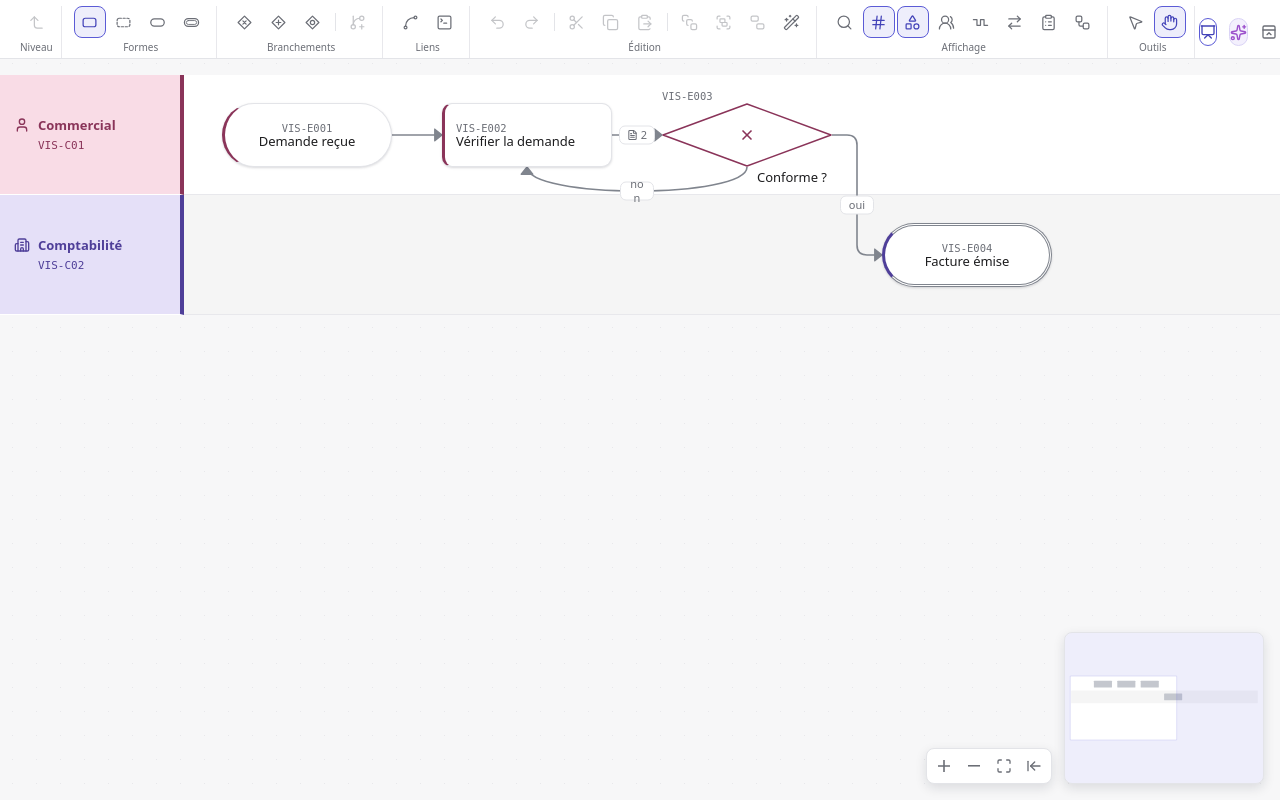
Test case: the comments read again when the field of a comment opens (R1-02, interface) › sends the version read again when the text its field showed is still the one of the line: no conflict for a line written again alike
Press F5
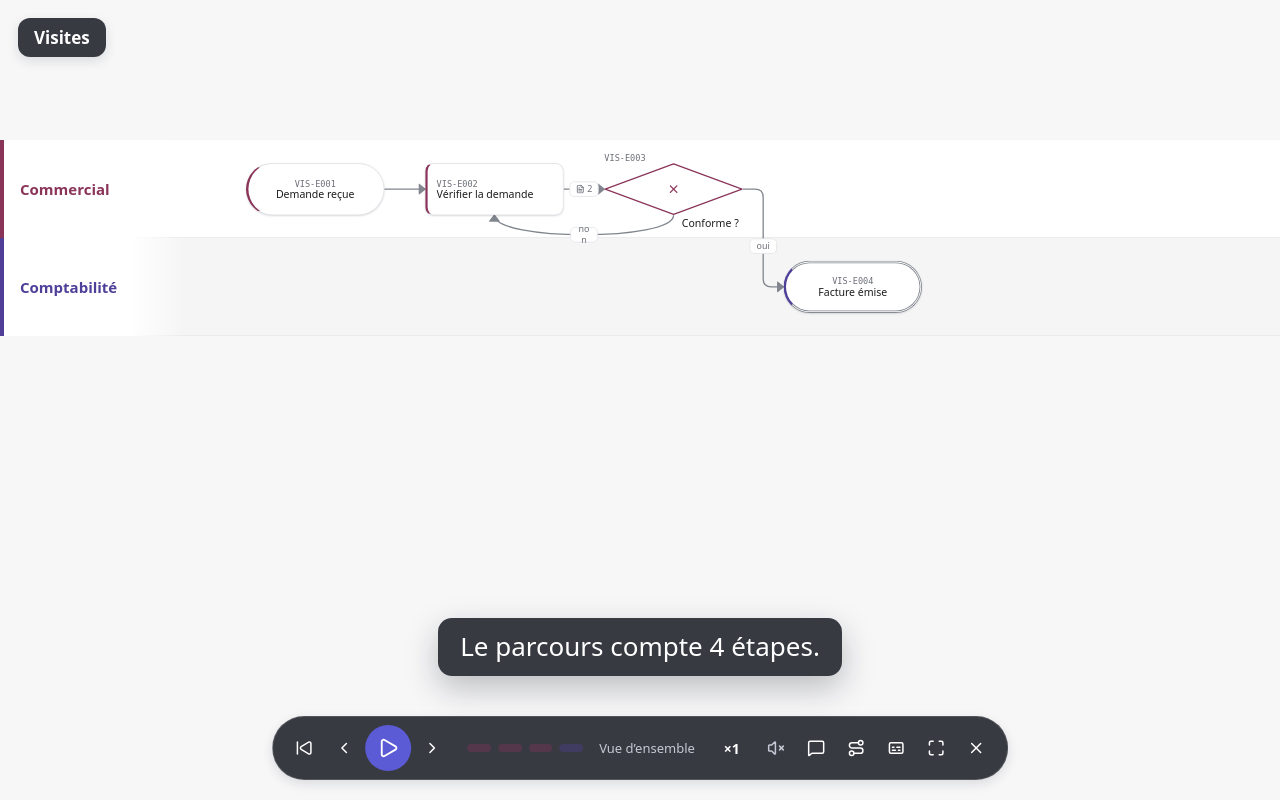
Press ArrowRight
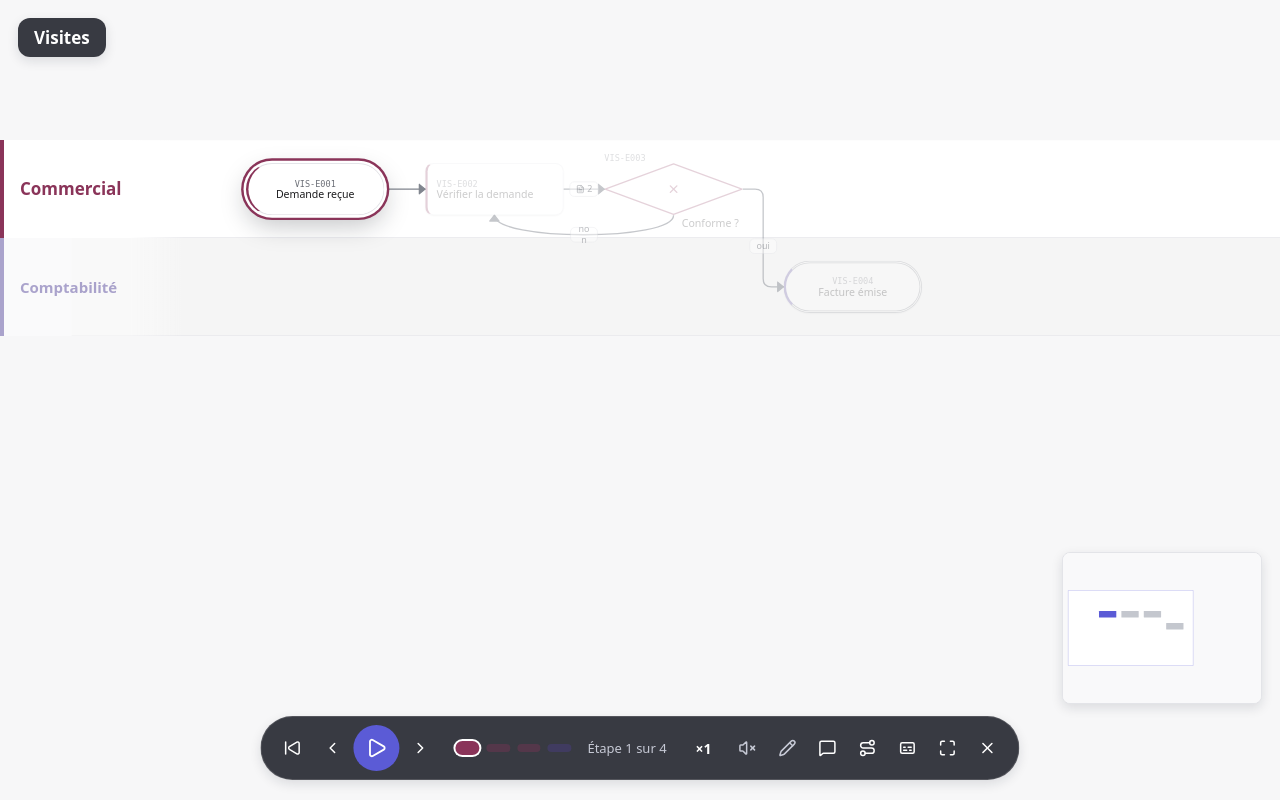
Press ArrowRight
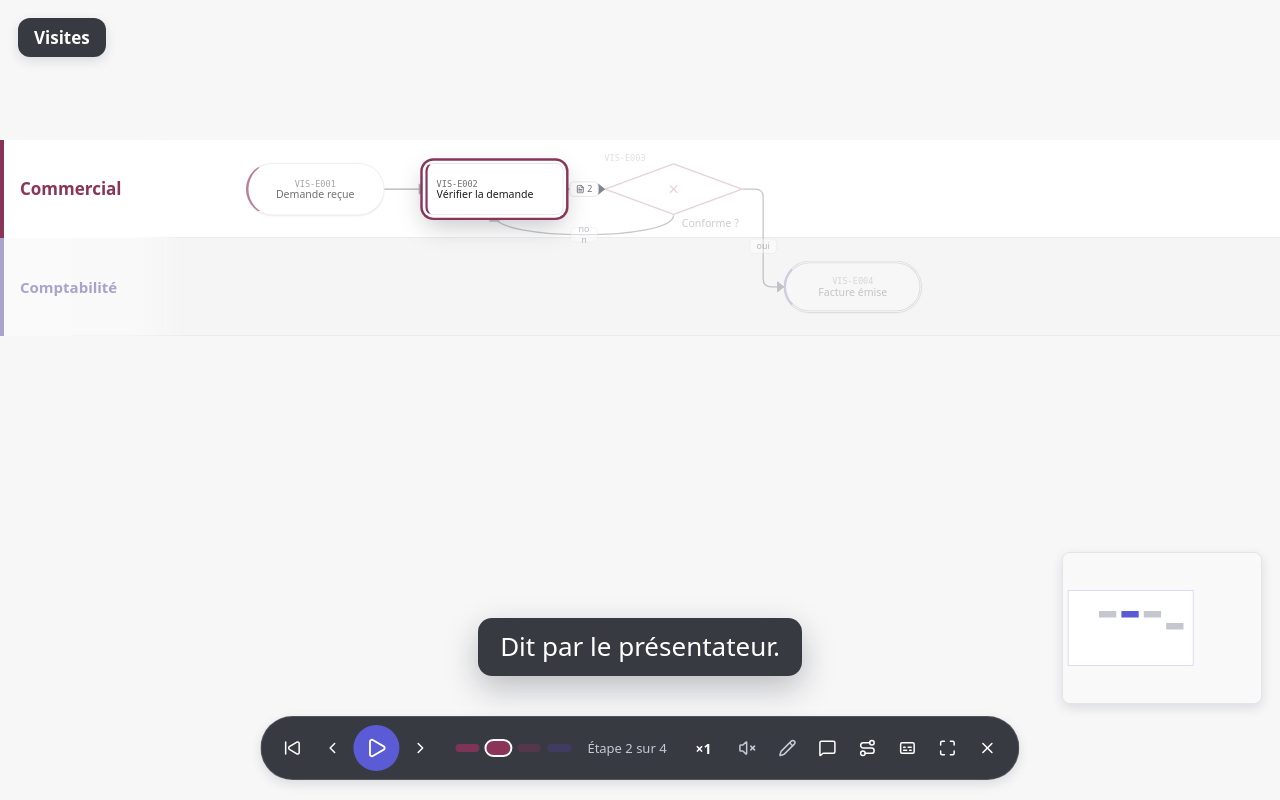
Press t
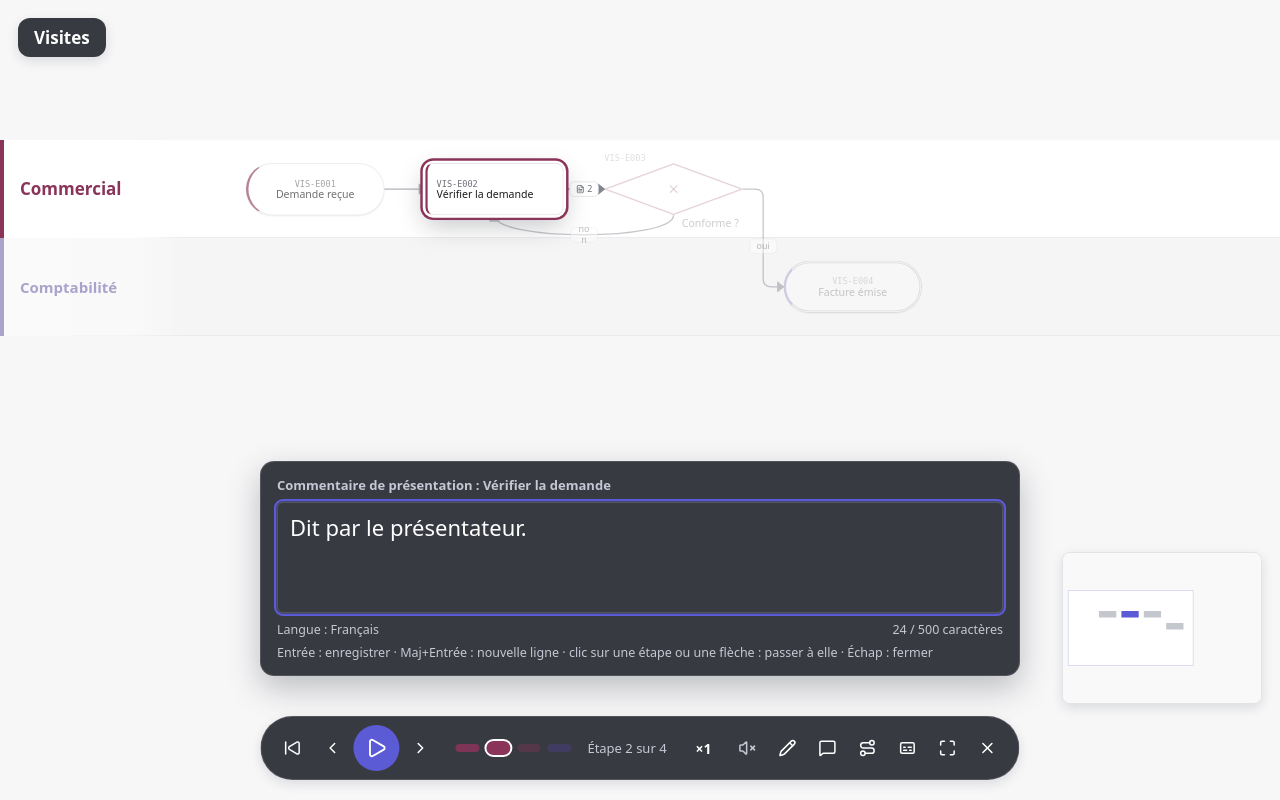
Replace the text in the text box with test id "presenter-comment-field" with "Dit par le présentateur, puis complété.". click: (640, 557)
box: [277,502,1003,613]
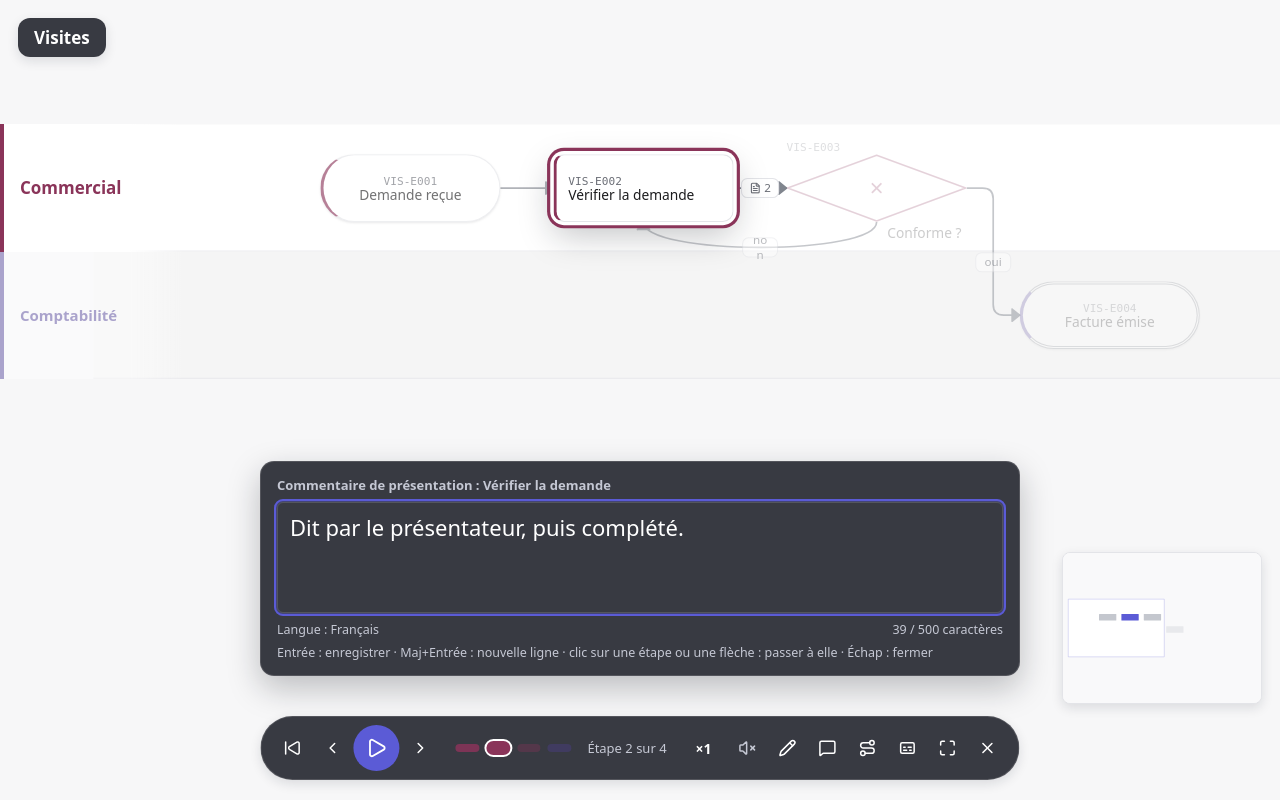
Press Enter in the text box with test id "presenter-comment-field", box [277,502,1003,613]
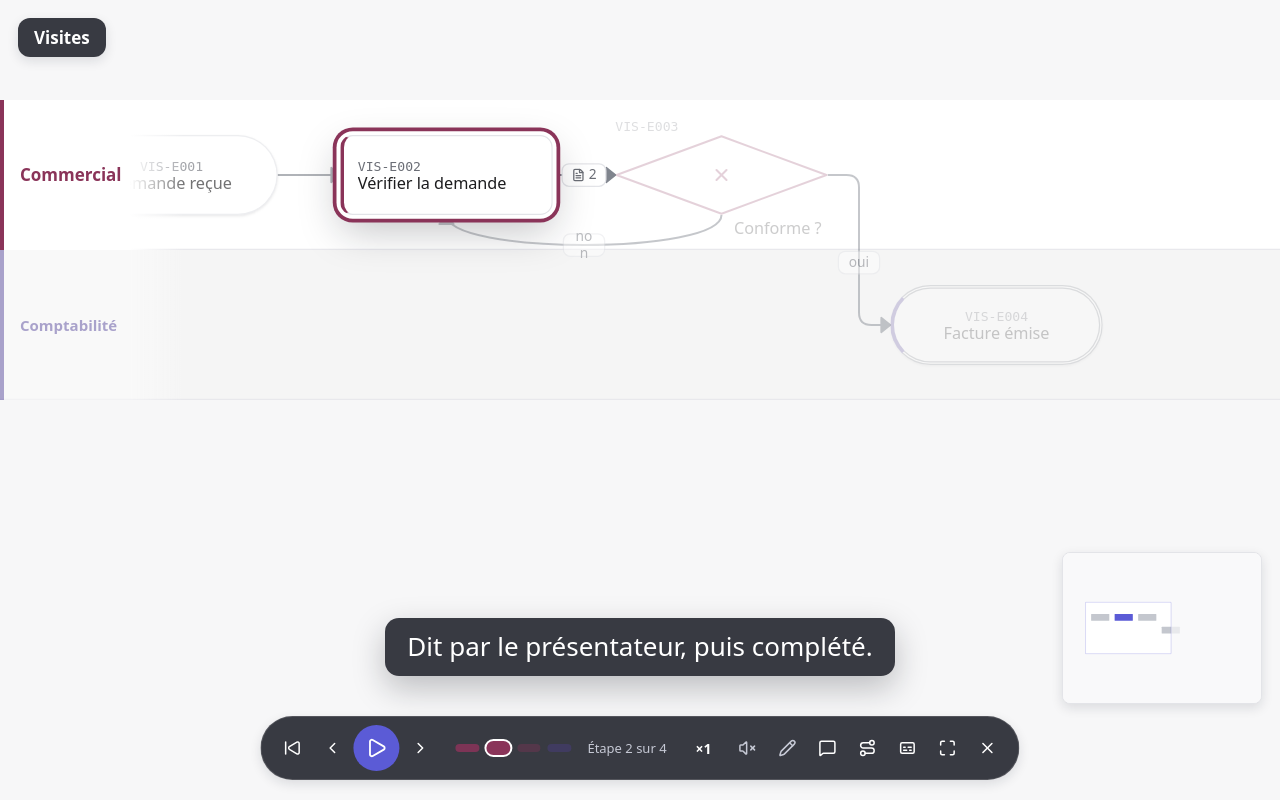
expect the element with test id "presenter-comment-editor" is gone: met
